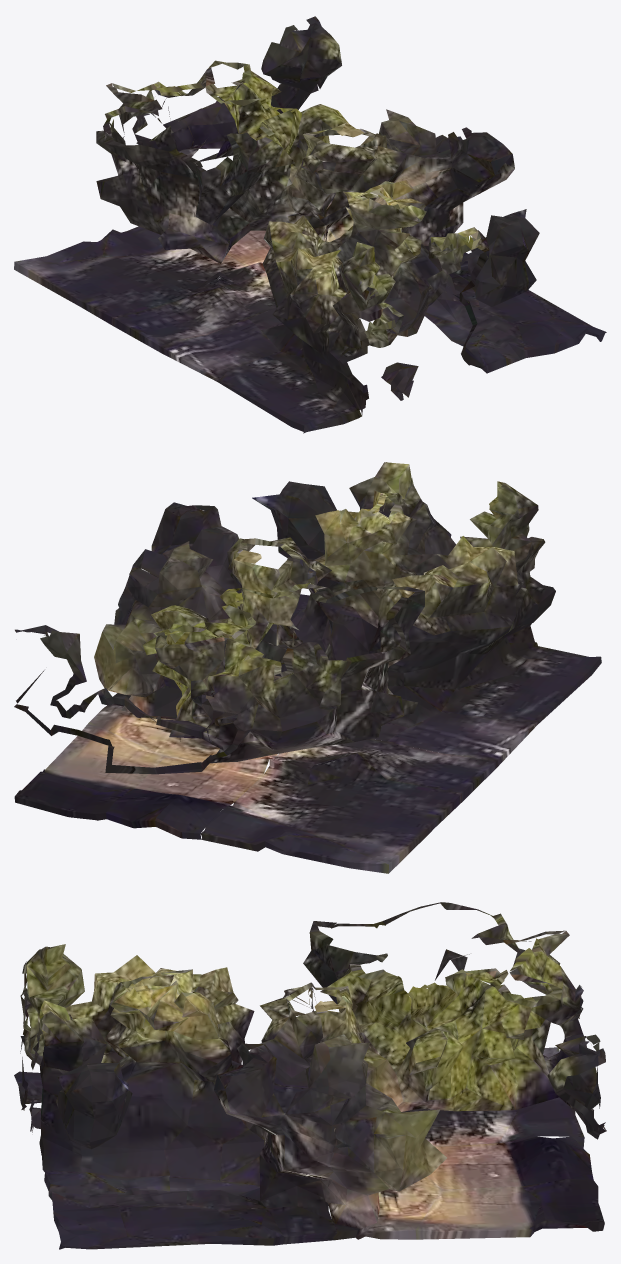
3 views of the same model, one above another, from view 1: azimuth 30°, elevation 25°; view 2: azimuth 150°, elevation 25°; view 3: azimuth 270°, elevation 25° (orthographic). The views are drawn at different scales.
Visible parts, largest first — view 1: Mesh_0; view 2: Mesh_0; view 3: Mesh_0.
Part boxes in pixels (box(x1,y1,x2,y2)): Mesh_0: box(14, 16, 606, 433); Mesh_0: box(14, 462, 601, 873); Mesh_0: box(14, 902, 606, 1249).
Bounding box in the file's own units: 33.31 × 14.43 × 41.47.
Materials: 1 (1 with a texture image).
